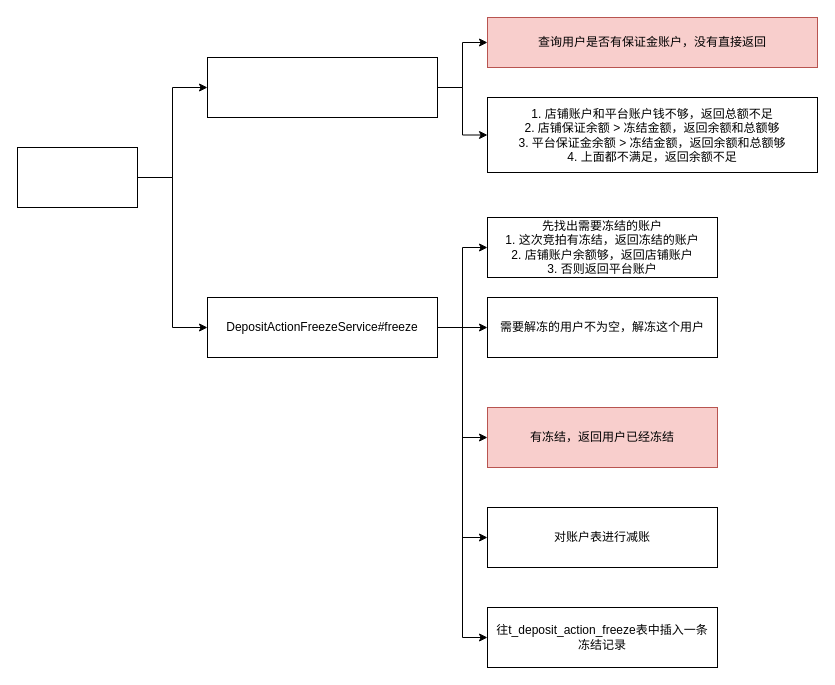
This 835x685 diagram has some shape labels left out. Here are the shapes that lost their labels. From the top down, the centre of each, then its label:
At pixel 322 87: "DepositActionFreezeService#check 主要校验保证金总额和余额是否足够".
At pixel 77 177: "单车冻结".
